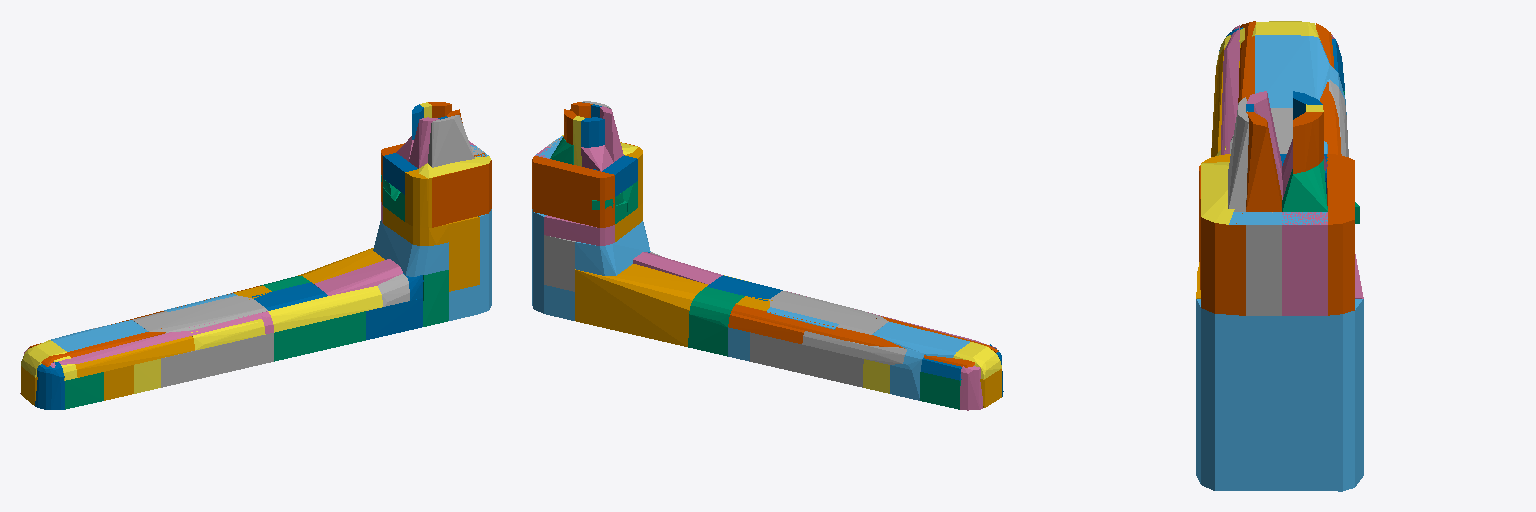
--- Facts derived from the render (not from the file) ---
Views: 3 orthographic renders of the robot side by side, from view 1: azimuth 30°, elevation 25°; view 2: azimuth 150°, elevation 25°; view 3: azimuth 270°, elevation 25°.
Model root with 64 links and 63 joints (63 fixed), rooted at link_handle~handle3_convex_piece_0, posed all joints at 0.
Visible links, largest first — view 1: link_handle~handle3_convex_piece_63, link_handle~handle3_convex_piece_21, link_handle~handle3_convex_piece_58, link_handle~handle3_convex_piece_35, link_handle~handle3_convex_piece_47, link_handle~handle3_convex_piece_49, link_handle~handle3_convex_piece_8, link_handle~handle3_convex_piece_55, link_handle~handle3_convex_piece_48, link_handle~handle3_convex_piece_44, link_handle~handle3_convex_piece_46, link_handle~handle3_convex_piece_38 (+19 smaller); view 2: link_handle~handle3_convex_piece_56, link_handle~handle3_convex_piece_45, link_handle~handle3_convex_piece_63, link_handle~handle3_convex_piece_34, link_handle~handle3_convex_piece_49, link_handle~handle3_convex_piece_47, link_handle~handle3_convex_piece_61, link_handle~handle3_convex_piece_41, link_handle~handle3_convex_piece_7, link_handle~handle3_convex_piece_22, link_handle~handle3_convex_piece_57, link_handle~handle3_convex_piece_25 (+17 smaller); view 3: link_handle~handle3_convex_piece_25, link_handle~handle3_convex_piece_6, link_handle~handle3_convex_piece_41, link_handle~handle3_convex_piece_45, link_handle~handle3_convex_piece_21, link_handle~handle3_convex_piece_15, link_handle~handle3_convex_piece_53, link_handle~handle3_convex_piece_55, link_handle~handle3_convex_piece_26, link_handle~handle3_convex_piece_29, link_handle~handle3_convex_piece_38, link_handle~handle3_convex_piece_43 (+7 smaller).
Link boxes in pixels (bbox=[...]): link_handle~handle3_convex_piece_63: bbox=[161, 333, 273, 387]; link_handle~handle3_convex_piece_21: bbox=[432, 153, 491, 227]; link_handle~handle3_convex_piece_58: bbox=[274, 311, 365, 361]; link_handle~handle3_convex_piece_35: bbox=[268, 286, 382, 332]; link_handle~handle3_convex_piece_47: bbox=[134, 295, 267, 333]; link_handle~handle3_convex_piece_49: bbox=[373, 220, 448, 276]; link_handle~handle3_convex_piece_8: bbox=[449, 216, 479, 291]; link_handle~handle3_convex_piece_55: bbox=[428, 115, 474, 167]; link_handle~handle3_convex_piece_48: bbox=[75, 336, 194, 377]; link_handle~handle3_convex_piece_44: bbox=[366, 298, 422, 339]; link_handle~handle3_convex_piece_46: bbox=[314, 259, 402, 295]; link_handle~handle3_convex_piece_38: bbox=[50, 313, 261, 367]; link_handle~handle3_convex_piece_56: bbox=[575, 264, 707, 346]; link_handle~handle3_convex_piece_45: bbox=[532, 156, 614, 227]; link_handle~handle3_convex_piece_63: bbox=[750, 332, 863, 387]; link_handle~handle3_convex_piece_34: bbox=[688, 287, 744, 356]; link_handle~handle3_convex_piece_49: bbox=[575, 221, 650, 275]; link_handle~handle3_convex_piece_47: bbox=[769, 291, 888, 332]; link_handle~handle3_convex_piece_61: bbox=[731, 304, 974, 367]; link_handle~handle3_convex_piece_41: bbox=[872, 322, 969, 357]; link_handle~handle3_convex_piece_7: bbox=[544, 235, 575, 291]; link_handle~handle3_convex_piece_22: bbox=[544, 215, 614, 245]; link_handle~handle3_convex_piece_57: bbox=[890, 348, 924, 400]; link_handle~handle3_convex_piece_25: bbox=[532, 209, 546, 313]; link_handle~handle3_convex_piece_25: bbox=[1196, 299, 1363, 491]; link_handle~handle3_convex_piece_6: bbox=[1282, 212, 1327, 315]; link_handle~handle3_convex_piece_41: bbox=[1255, 35, 1329, 107]; link_handle~handle3_convex_piece_45: bbox=[1327, 154, 1354, 315]; link_handle~handle3_convex_piece_21: bbox=[1199, 166, 1245, 315]; link_handle~handle3_convex_piece_15: bbox=[1246, 212, 1281, 315]; link_handle~handle3_convex_piece_53: bbox=[1246, 112, 1281, 211]; link_handle~handle3_convex_piece_55: bbox=[1228, 97, 1248, 211]; link_handle~handle3_convex_piece_26: bbox=[1282, 159, 1327, 211]; link_handle~handle3_convex_piece_29: bbox=[1293, 112, 1323, 173]; link_handle~handle3_convex_piece_38: bbox=[1221, 25, 1239, 154]; link_handle~handle3_convex_piece_43: bbox=[1201, 162, 1234, 224].
Bounding box of the posed robot: 0.1277 × 0.0227 × 0.052 m (x, y, z).
64 mesh visuals loaded from 64 distinct referenced files (64 OBJ).

robot.urdf — root:
<robot name="root">
  <link name="link_handle~handle3_convex_piece_0">
    <inertial>
      <origin xyz="0 0 0" rpy="0 0 0"/>
      <mass value="9.66E-04"/>
      <inertia ixx="1.10E-07" ixy="-2.01E-07" ixz="-5.53E-07" iyy="3.87E-06" iyz="-3.13E-08" izz="3.80E-06"/>
    </inertial>
    <visual>
      <origin xyz="0 0 0" rpy="0 0 0"/>
      <geometry>
        <mesh filename="handle~handle3_convex_piece_0.obj" scale="1.0000E+00 1.0000E+00 1.0000E+00"/>
      </geometry>
      <material name=""/>
    </visual>
    <collision>
      <origin xyz="0 0 0" rpy="0 0 0"/>
      <geometry>
        <mesh filename="handle~handle3_convex_piece_0.obj" scale="1.0000E+00 1.0000E+00 1.0000E+00"/>
      </geometry>
    </collision>
  </link>
  <link name="link_handle~handle3_convex_piece_1">
    <inertial>
      <origin xyz="0 0 0" rpy="0 0 0"/>
      <mass value="5.49E-04"/>
      <inertia ixx="7.18E-08" ixy="4.76E-08" ixz="-7.96E-08" iyy="1.89E-07" iyz="2.88E-08" izz="1.57E-07"/>
    </inertial>
    <visual>
      <origin xyz="0 0 0" rpy="0 0 0"/>
      <geometry>
        <mesh filename="handle~handle3_convex_piece_1.obj" scale="1.0000E+00 1.0000E+00 1.0000E+00"/>
      </geometry>
      <material name=""/>
    </visual>
    <collision>
      <origin xyz="0 0 0" rpy="0 0 0"/>
      <geometry>
        <mesh filename="handle~handle3_convex_piece_1.obj" scale="1.0000E+00 1.0000E+00 1.0000E+00"/>
      </geometry>
    </collision>
  </link>
  <joint name="link_handle~handle3_convex_piece_1_joint" type="fixed">
    <origin xyz="0 0 0" rpy="0 0 0"/>
    <parent link="link_handle~handle3_convex_piece_0"/>
    <child link="link_handle~handle3_convex_piece_1"/>
  </joint>
  <link name="link_handle~handle3_convex_piece_2">
    <inertial>
      <origin xyz="0 0 0" rpy="0 0 0"/>
      <mass value="1.30E-03"/>
      <inertia ixx="1.38E-07" ixy="1.82E-07" ixz="2.47E-07" iyy="1.01E-06" iyz="-4.94E-08" izz="9.71E-07"/>
    </inertial>
    <visual>
      <origin xyz="0 0 0" rpy="0 0 0"/>
      <geometry>
        <mesh filename="handle~handle3_convex_piece_2.obj" scale="1.0000E+00 1.0000E+00 1.0000E+00"/>
      </geometry>
      <material name=""/>
    </visual>
    <collision>
      <origin xyz="0 0 0" rpy="0 0 0"/>
      <geometry>
        <mesh filename="handle~handle3_convex_piece_2.obj" scale="1.0000E+00 1.0000E+00 1.0000E+00"/>
      </geometry>
    </collision>
  </link>
  <joint name="link_handle~handle3_convex_piece_2_joint" type="fixed">
    <origin xyz="0 0 0" rpy="0 0 0"/>
    <parent link="link_handle~handle3_convex_piece_1"/>
    <child link="link_handle~handle3_convex_piece_2"/>
  </joint>
  <link name="link_handle~handle3_convex_piece_3">
    <inertial>
      <origin xyz="0 0 0" rpy="0 0 0"/>
      <mass value="1.32E-03"/>
      <inertia ixx="1.67E-07" ixy="3.49E-09" ixz="-6.91E-07" iyy="4.07E-06" iyz="2.89E-10" izz="3.97E-06"/>
    </inertial>
    <visual>
      <origin xyz="0 0 0" rpy="0 0 0"/>
      <geometry>
        <mesh filename="handle~handle3_convex_piece_3.obj" scale="1.0000E+00 1.0000E+00 1.0000E+00"/>
      </geometry>
      <material name=""/>
    </visual>
    <collision>
      <origin xyz="0 0 0" rpy="0 0 0"/>
      <geometry>
        <mesh filename="handle~handle3_convex_piece_3.obj" scale="1.0000E+00 1.0000E+00 1.0000E+00"/>
      </geometry>
    </collision>
  </link>
  <joint name="link_handle~handle3_convex_piece_3_joint" type="fixed">
    <origin xyz="0 0 0" rpy="0 0 0"/>
    <parent link="link_handle~handle3_convex_piece_2"/>
    <child link="link_handle~handle3_convex_piece_3"/>
  </joint>
  <link name="link_handle~handle3_convex_piece_4">
    <inertial>
      <origin xyz="0 0 0" rpy="0 0 0"/>
      <mass value="1.26E-04"/>
      <inertia ixx="9.52E-09" ixy="2.07E-08" ixz="8.67E-09" iyy="5.88E-08" iyz="-3.23E-09" izz="6.50E-08"/>
    </inertial>
    <visual>
      <origin xyz="0 0 0" rpy="0 0 0"/>
      <geometry>
        <mesh filename="handle~handle3_convex_piece_4.obj" scale="1.0000E+00 1.0000E+00 1.0000E+00"/>
      </geometry>
      <material name=""/>
    </visual>
    <collision>
      <origin xyz="0 0 0" rpy="0 0 0"/>
      <geometry>
        <mesh filename="handle~handle3_convex_piece_4.obj" scale="1.0000E+00 1.0000E+00 1.0000E+00"/>
      </geometry>
    </collision>
  </link>
  <joint name="link_handle~handle3_convex_piece_4_joint" type="fixed">
    <origin xyz="0 0 0" rpy="0 0 0"/>
    <parent link="link_handle~handle3_convex_piece_3"/>
    <child link="link_handle~handle3_convex_piece_4"/>
  </joint>
  <link name="link_handle~handle3_convex_piece_5">
    <inertial>
      <origin xyz="0 0 0" rpy="0 0 0"/>
      <mass value="6.37E-05"/>
      <inertia ixx="4.13E-09" ixy="-8.38E-09" ixz="-1.26E-08" iyy="7.22E-08" iyz="-1.53E-09" izz="7.01E-08"/>
    </inertial>
    <visual>
      <origin xyz="0 0 0" rpy="0 0 0"/>
      <geometry>
        <mesh filename="handle~handle3_convex_piece_5.obj" scale="1.0000E+00 1.0000E+00 1.0000E+00"/>
      </geometry>
      <material name=""/>
    </visual>
    <collision>
      <origin xyz="0 0 0" rpy="0 0 0"/>
      <geometry>
        <mesh filename="handle~handle3_convex_piece_5.obj" scale="1.0000E+00 1.0000E+00 1.0000E+00"/>
      </geometry>
    </collision>
  </link>
  <joint name="link_handle~handle3_convex_piece_5_joint" type="fixed">
    <origin xyz="0 0 0" rpy="0 0 0"/>
    <parent link="link_handle~handle3_convex_piece_4"/>
    <child link="link_handle~handle3_convex_piece_5"/>
  </joint>
  <link name="link_handle~handle3_convex_piece_6">
    <inertial>
      <origin xyz="0 0 0" rpy="0 0 0"/>
      <mass value="4.26E-04"/>
      <inertia ixx="1.64E-07" ixy="-5.77E-08" ixz="-3.39E-07" iyy="9.14E-07" iyz="-2.60E-08" izz="7.62E-07"/>
    </inertial>
    <visual>
      <origin xyz="0 0 0" rpy="0 0 0"/>
      <geometry>
        <mesh filename="handle~handle3_convex_piece_6.obj" scale="1.0000E+00 1.0000E+00 1.0000E+00"/>
      </geometry>
      <material name=""/>
    </visual>
    <collision>
      <origin xyz="0 0 0" rpy="0 0 0"/>
      <geometry>
        <mesh filename="handle~handle3_convex_piece_6.obj" scale="1.0000E+00 1.0000E+00 1.0000E+00"/>
      </geometry>
    </collision>
  </link>
  <joint name="link_handle~handle3_convex_piece_6_joint" type="fixed">
    <origin xyz="0 0 0" rpy="0 0 0"/>
    <parent link="link_handle~handle3_convex_piece_5"/>
    <child link="link_handle~handle3_convex_piece_6"/>
  </joint>
  <link name="link_handle~handle3_convex_piece_7">
    <inertial>
      <origin xyz="0 0 0" rpy="0 0 0"/>
      <mass value="7.29E-04"/>
      <inertia ixx="6.05E-08" ixy="-2.02E-07" ixz="-1.78E-08" iyy="8.79E-07" iyz="-3.94E-09" izz="9.18E-07"/>
    </inertial>
    <visual>
      <origin xyz="0 0 0" rpy="0 0 0"/>
      <geometry>
        <mesh filename="handle~handle3_convex_piece_7.obj" scale="1.0000E+00 1.0000E+00 1.0000E+00"/>
      </geometry>
      <material name=""/>
    </visual>
    <collision>
      <origin xyz="0 0 0" rpy="0 0 0"/>
      <geometry>
        <mesh filename="handle~handle3_convex_piece_7.obj" scale="1.0000E+00 1.0000E+00 1.0000E+00"/>
      </geometry>
    </collision>
  </link>
  <joint name="link_handle~handle3_convex_piece_7_joint" type="fixed">
    <origin xyz="0 0 0" rpy="0 0 0"/>
    <parent link="link_handle~handle3_convex_piece_6"/>
    <child link="link_handle~handle3_convex_piece_7"/>
  </joint>
  <link name="link_handle~handle3_convex_piece_8">
    <inertial>
      <origin xyz="0 0 0" rpy="0 0 0"/>
      <mass value="1.00E-03"/>
      <inertia ixx="1.05E-07" ixy="2.76E-07" ixz="-1.09E-07" iyy="1.23E-06" iyz="2.51E-08" izz="1.26E-06"/>
    </inertial>
    <visual>
      <origin xyz="0 0 0" rpy="0 0 0"/>
      <geometry>
        <mesh filename="handle~handle3_convex_piece_8.obj" scale="1.0000E+00 1.0000E+00 1.0000E+00"/>
      </geometry>
      <material name=""/>
    </visual>
    <collision>
      <origin xyz="0 0 0" rpy="0 0 0"/>
      <geometry>
        <mesh filename="handle~handle3_convex_piece_8.obj" scale="1.0000E+00 1.0000E+00 1.0000E+00"/>
      </geometry>
    </collision>
  </link>
  <joint name="link_handle~handle3_convex_piece_8_joint" type="fixed">
    <origin xyz="0 0 0" rpy="0 0 0"/>
    <parent link="link_handle~handle3_convex_piece_7"/>
    <child link="link_handle~handle3_convex_piece_8"/>
  </joint>
  <link name="link_handle~handle3_convex_piece_9">
    <inertial>
      <origin xyz="0 0 0" rpy="0 0 0"/>
      <mass value="0.00E+00"/>
      <inertia ixx="2.90E-23" ixy="-0.00E+00" ixz="-5.80E-23" iyy="2.90E-23" iyz="-0.00E+00" izz="0.00E+00"/>
    </inertial>
    <visual>
      <origin xyz="0 0 0" rpy="0 0 0"/>
      <geometry>
        <mesh filename="handle~handle3_convex_piece_9.obj" scale="1.0000E+00 1.0000E+00 1.0000E+00"/>
      </geometry>
      <material name=""/>
    </visual>
    <collision>
      <origin xyz="0 0 0" rpy="0 0 0"/>
      <geometry>
        <mesh filename="handle~handle3_convex_piece_9.obj" scale="1.0000E+00 1.0000E+00 1.0000E+00"/>
      </geometry>
    </collision>
  </link>
  <joint name="link_handle~handle3_convex_piece_9_joint" type="fixed">
    <origin xyz="0 0 0" rpy="0 0 0"/>
    <parent link="link_handle~handle3_convex_piece_8"/>
    <child link="link_handle~handle3_convex_piece_9"/>
  </joint>
  <link name="link_handle~handle3_convex_piece_10">
    <inertial>
      <origin xyz="0 0 0" rpy="0 0 0"/>
      <mass value="7.95E-05"/>
      <inertia ixx="2.95E-08" ixy="-1.14E-08" ixz="-3.44E-08" iyy="7.14E-08" iyz="-8.72E-09" izz="4.84E-08"/>
    </inertial>
    <visual>
      <origin xyz="0 0 0" rpy="0 0 0"/>
      <geometry>
        <mesh filename="handle~handle3_convex_piece_10.obj" scale="1.0000E+00 1.0000E+00 1.0000E+00"/>
      </geometry>
      <material name=""/>
    </visual>
    <collision>
      <origin xyz="0 0 0" rpy="0 0 0"/>
      <geometry>
        <mesh filename="handle~handle3_convex_piece_10.obj" scale="1.0000E+00 1.0000E+00 1.0000E+00"/>
      </geometry>
    </collision>
  </link>
  <joint name="link_handle~handle3_convex_piece_10_joint" type="fixed">
    <origin xyz="0 0 0" rpy="0 0 0"/>
    <parent link="link_handle~handle3_convex_piece_9"/>
    <child link="link_handle~handle3_convex_piece_10"/>
  </joint>
  <link name="link_handle~handle3_convex_piece_11">
    <inertial>
      <origin xyz="0 0 0" rpy="0 0 0"/>
      <mass value="1.10E-04"/>
      <inertia ixx="8.50E-08" ixy="-1.58E-08" ixz="-9.57E-08" iyy="2.02E-07" iyz="-1.29E-08" izz="1.21E-07"/>
    </inertial>
    <visual>
      <origin xyz="0 0 0" rpy="0 0 0"/>
      <geometry>
        <mesh filename="handle~handle3_convex_piece_11.obj" scale="1.0000E+00 1.0000E+00 1.0000E+00"/>
      </geometry>
      <material name=""/>
    </visual>
    <collision>
      <origin xyz="0 0 0" rpy="0 0 0"/>
      <geometry>
        <mesh filename="handle~handle3_convex_piece_11.obj" scale="1.0000E+00 1.0000E+00 1.0000E+00"/>
      </geometry>
    </collision>
  </link>
  <joint name="link_handle~handle3_convex_piece_11_joint" type="fixed">
    <origin xyz="0 0 0" rpy="0 0 0"/>
    <parent link="link_handle~handle3_convex_piece_10"/>
    <child link="link_handle~handle3_convex_piece_11"/>
  </joint>
  <link name="link_handle~handle3_convex_piece_12">
    <inertial>
      <origin xyz="0 0 0" rpy="0 0 0"/>
      <mass value="5.61E-05"/>
      <inertia ixx="4.03E-09" ixy="2.89E-08" ixz="-1.80E-08" iyy="2.95E-07" iyz="1.80E-09" izz="2.97E-07"/>
    </inertial>
    <visual>
      <origin xyz="0 0 0" rpy="0 0 0"/>
      <geometry>
        <mesh filename="handle~handle3_convex_piece_12.obj" scale="1.0000E+00 1.0000E+00 1.0000E+00"/>
      </geometry>
      <material name=""/>
    </visual>
    <collision>
      <origin xyz="0 0 0" rpy="0 0 0"/>
      <geometry>
        <mesh filename="handle~handle3_convex_piece_12.obj" scale="1.0000E+00 1.0000E+00 1.0000E+00"/>
      </geometry>
    </collision>
  </link>
  <joint name="link_handle~handle3_convex_piece_12_joint" type="fixed">
    <origin xyz="0 0 0" rpy="0 0 0"/>
    <parent link="link_handle~handle3_convex_piece_11"/>
    <child link="link_handle~handle3_convex_piece_12"/>
  </joint>
  <link name="link_handle~handle3_convex_piece_13">
    <inertial>
      <origin xyz="0 0 0" rpy="0 0 0"/>
      <mass value="1.04E-04"/>
      <inertia ixx="9.44E-09" ixy="1.99E-08" ixz="-1.05E-08" iyy="6.02E-08" iyz="3.88E-09" izz="6.54E-08"/>
    </inertial>
    <visual>
      <origin xyz="0 0 0" rpy="0 0 0"/>
      <geometry>
        <mesh filename="handle~handle3_convex_piece_13.obj" scale="1.0000E+00 1.0000E+00 1.0000E+00"/>
      </geometry>
      <material name=""/>
    </visual>
    <collision>
      <origin xyz="0 0 0" rpy="0 0 0"/>
      <geometry>
        <mesh filename="handle~handle3_convex_piece_13.obj" scale="1.0000E+00 1.0000E+00 1.0000E+00"/>
      </geometry>
    </collision>
  </link>
  <joint name="link_handle~handle3_convex_piece_13_joint" type="fixed">
    <origin xyz="0 0 0" rpy="0 0 0"/>
    <parent link="link_handle~handle3_convex_piece_12"/>
    <child link="link_handle~handle3_convex_piece_13"/>
  </joint>
  <link name="link_handle~handle3_convex_piece_14">
    <inertial>
      <origin xyz="0 0 0" rpy="0 0 0"/>
      <mass value="1.01E-04"/>
      <inertia ixx="1.33E-08" ixy="5.02E-08" ixz="-7.29E-08" iyy="6.50E-07" iyz="5.75E-09" izz="6.45E-07"/>
    </inertial>
    <visual>
      <origin xyz="0 0 0" rpy="0 0 0"/>
      <geometry>
        <mesh filename="handle~handle3_convex_piece_14.obj" scale="1.0000E+00 1.0000E+00 1.0000E+00"/>
      </geometry>
      <material name=""/>
    </visual>
    <collision>
      <origin xyz="0 0 0" rpy="0 0 0"/>
      <geometry>
        <mesh filename="handle~handle3_convex_piece_14.obj" scale="1.0000E+00 1.0000E+00 1.0000E+00"/>
      </geometry>
    </collision>
  </link>
  <joint name="link_handle~handle3_convex_piece_14_joint" type="fixed">
    <origin xyz="0 0 0" rpy="0 0 0"/>
    <parent link="link_handle~handle3_convex_piece_13"/>
    <child link="link_handle~handle3_convex_piece_14"/>
  </joint>
  <link name="link_handle~handle3_convex_piece_15">
    <inertial>
      <origin xyz="0 0 0" rpy="0 0 0"/>
      <mass value="6.59E-04"/>
      <inertia ixx="2.51E-07" ixy="5.80E-08" ixz="-4.97E-07" iyy="1.30E-06" iyz="2.77E-08" izz="1.06E-06"/>
    </inertial>
    <visual>
      <origin xyz="0 0 0" rpy="0 0 0"/>
      <geometry>
        <mesh filename="handle~handle3_convex_piece_15.obj" scale="1.0000E+00 1.0000E+00 1.0000E+00"/>
      </geometry>
      <material name=""/>
    </visual>
    <collision>
      <origin xyz="0 0 0" rpy="0 0 0"/>
      <geometry>
        <mesh filename="handle~handle3_convex_piece_15.obj" scale="1.0000E+00 1.0000E+00 1.0000E+00"/>
      </geometry>
    </collision>
  </link>
  <joint name="link_handle~handle3_convex_piece_15_joint" type="fixed">
    <origin xyz="0 0 0" rpy="0 0 0"/>
    <parent link="link_handle~handle3_convex_piece_14"/>
    <child link="link_handle~handle3_convex_piece_15"/>
  </joint>
  <link name="link_handle~handle3_convex_piece_16">
    <inertial>
      <origin xyz="0 0 0" rpy="0 0 0"/>
      <mass value="3.86E-04"/>
      <inertia ixx="4.54E-08" ixy="2.09E-08" ixz="-3.16E-07" iyy="2.54E-06" iyz="2.73E-09" izz="2.50E-06"/>
    </inertial>
    <visual>
      <origin xyz="0 0 0" rpy="0 0 0"/>
      <geometry>
        <mesh filename="handle~handle3_convex_piece_16.obj" scale="1.0000E+00 1.0000E+00 1.0000E+00"/>
      </geometry>
      <material name=""/>
    </visual>
    <collision>
      <origin xyz="0 0 0" rpy="0 0 0"/>
      <geometry>
        <mesh filename="handle~handle3_convex_piece_16.obj" scale="1.0000E+00 1.0000E+00 1.0000E+00"/>
      </geometry>
    </collision>
  </link>
  <joint name="link_handle~handle3_convex_piece_16_joint" type="fixed">
    <origin xyz="0 0 0" rpy="0 0 0"/>
    <parent link="link_handle~handle3_convex_piece_15"/>
    <child link="link_handle~handle3_convex_piece_16"/>
  </joint>
  <link name="link_handle~handle3_convex_piece_17">
    <inertial>
      <origin xyz="0 0 0" rpy="0 0 0"/>
      <mass value="1.62E-03"/>
      <inertia ixx="2.50E-07" ixy="-5.82E-10" ixz="5.82E-07" iyy="2.15E-06" iyz="1.65E-10" izz="2.04E-06"/>
    </inertial>
    <visual>
      <origin xyz="0 0 0" rpy="0 0 0"/>
      <geometry>
        <mesh filename="handle~handle3_convex_piece_17.obj" scale="1.0000E+00 1.0000E+00 1.0000E+00"/>
      </geometry>
      <material name=""/>
    </visual>
    <collision>
      <origin xyz="0 0 0" rpy="0 0 0"/>
      <geometry>
        <mesh filename="handle~handle3_convex_piece_17.obj" scale="1.0000E+00 1.0000E+00 1.0000E+00"/>
      </geometry>
    </collision>
  </link>
  <joint name="link_handle~handle3_convex_piece_17_joint" type="fixed">
    <origin xyz="0 0 0" rpy="0 0 0"/>
    <parent link="link_handle~handle3_convex_piece_16"/>
    <child link="link_handle~handle3_convex_piece_17"/>
  </joint>
  <link name="link_handle~handle3_convex_piece_18">
    <inertial>
      <origin xyz="0 0 0" rpy="0 0 0"/>
      <mass value="1.58E-03"/>
      <inertia ixx="2.16E-07" ixy="1.68E-09" ixz="-1.18E-06" iyy="8.41E-06" iyz="1.61E-10" izz="8.28E-06"/>
    </inertial>
    <visual>
      <origin xyz="0 0 0" rpy="0 0 0"/>
      <geometry>
        <mesh filename="handle~handle3_convex_piece_18.obj" scale="1.0000E+00 1.0000E+00 1.0000E+00"/>
      </geometry>
      <material name=""/>
    </visual>
    <collision>
      <origin xyz="0 0 0" rpy="0 0 0"/>
      <geometry>
        <mesh filename="handle~handle3_convex_piece_18.obj" scale="1.0000E+00 1.0000E+00 1.0000E+00"/>
      </geometry>
    </collision>
  </link>
  <joint name="link_handle~handle3_convex_piece_18_joint" type="fixed">
    <origin xyz="0 0 0" rpy="0 0 0"/>
    <parent link="link_handle~handle3_convex_piece_17"/>
    <child link="link_handle~handle3_convex_piece_18"/>
  </joint>
  <link name="link_handle~handle3_convex_piece_19">
    <inertial>
      <origin xyz="0 0 0" rpy="0 0 0"/>
      <mass value="3.68E-04"/>
      <inertia ixx="1.62E-08" ixy="1.25E-11" ixz="-4.61E-08" iyy="5.04E-07" iyz="1.17E-12" izz="4.93E-07"/>
    </inertial>
    <visual>
      <origin xyz="0 0 0" rpy="0 0 0"/>
      <geometry>
        <mesh filename="handle~handle3_convex_piece_19.obj" scale="1.0000E+00 1.0000E+00 1.0000E+00"/>
      </geometry>
      <material name=""/>
    </visual>
    <collision>
      <origin xyz="0 0 0" rpy="0 0 0"/>
      <geometry>
        <mesh filename="handle~handle3_convex_piece_19.obj" scale="1.0000E+00 1.0000E+00 1.0000E+00"/>
      </geometry>
    </collision>
  </link>
  <joint name="link_handle~handle3_convex_piece_19_joint" type="fixed">
    <origin xyz="0 0 0" rpy="0 0 0"/>
    <parent link="link_handle~handle3_convex_piece_18"/>
    <child link="link_handle~handle3_convex_piece_19"/>
  </joint>
  <link name="link_handle~handle3_convex_piece_20">
    <inertial>
      <origin xyz="0 0 0" rpy="0 0 0"/>
      <mass value="1.97E-04"/>
      <inertia ixx="2.43E-08" ixy="-8.39E-08" ixz="-1.43E-07" iyy="1.27E-06" iyz="-9.60E-09" izz="1.26E-06"/>
    </inertial>
    <visual>
      <origin xyz="0 0 0" rpy="0 0 0"/>
      <geometry>
        <mesh filename="handle~handle3_convex_piece_20.obj" scale="1.0000E+00 1.0000E+00 1.0000E+00"/>
      </geometry>
      <material name=""/>
    </visual>
    <collision>
      <origin xyz="0 0 0" rpy="0 0 0"/>
      <geometry>
        <mesh filename="handle~handle3_convex_piece_20.obj" scale="1.0000E+00 1.0000E+00 1.0000E+00"/>
      </geometry>
    </collision>
  </link>
  <joint name="link_handle~handle3_convex_piece_20_joint" type="fixed">
    <origin xyz="0 0 0" rpy="0 0 0"/>
    <parent link="link_handle~handle3_convex_piece_19"/>
    <child link="link_handle~handle3_convex_piece_20"/>
  </joint>
  <link name="link_handle~handle3_convex_piece_21">
    <inertial>
      <origin xyz="0 0 0" rpy="0 0 0"/>
      <mass value="1.69E-03"/>
      <inertia ixx="7.28E-07" ixy="4.37E-07" ixz="-1.09E-06" iyy="2.65E-06" iyz="2.41E-07" izz="2.13E-06"/>
    </inertial>
    <visual>
      <origin xyz="0 0 0" rpy="0 0 0"/>
      <geometry>
        <mesh filename="handle~handle3_convex_piece_21.obj" scale="1.0000E+00 1.0000E+00 1.0000E+00"/>
      </geometry>
      <material name=""/>
    </visual>
    <collision>
      <origin xyz="0 0 0" rpy="0 0 0"/>
      <geometry>
        <mesh filename="handle~handle3_convex_piece_21.obj" scale="1.0000E+00 1.0000E+00 1.0000E+00"/>
      </geometry>
    </collision>
  </link>
  <joint name="link_handle~handle3_convex_piece_21_joint" type="fixed">
    <origin xyz="0 0 0" rpy="0 0 0"/>
    <parent link="link_handle~handle3_convex_piece_20"/>
    <child link="link_handle~handle3_convex_piece_21"/>
  </joint>
  <link name="link_handle~handle3_convex_piece_22">
    <inertial>
      <origin xyz="0 0 0" rpy="0 0 0"/>
      <mass value="4.37E-04"/>
      <inertia ixx="7.14E-08" ixy="-1.10E-07" ixz="-1.32E-07" iyy="4.75E-07" iyz="-3.41E-08" izz="4.63E-07"/>
    </inertial>
    <visual>
      <origin xyz="0 0 0" rpy="0 0 0"/>
      <geometry>
        <mesh filename="handle~handle3_convex_piece_22.obj" scale="1.0000E+00 1.0000E+00 1.0000E+00"/>
      </geometry>
      <material name=""/>
    </visual>
    <collision>
      <origin xyz="0 0 0" rpy="0 0 0"/>
      <geometry>
        <mesh filename="handle~handle3_convex_piece_22.obj" scale="1.0000E+00 1.0000E+00 1.0000E+00"/>
      </geometry>
    </collision>
  </link>
  <joint name="link_handle~handle3_convex_piece_22_joint" type="fixed">
    <origin xyz="0 0 0" rpy="0 0 0"/>
    <parent link="link_handle~handle3_convex_piece_21"/>
    <child link="link_handle~handle3_convex_piece_22"/>
  </joint>
  <link name="link_handle~handle3_convex_piece_23">
    <inertial>
      <origin xyz="0 0 0" rpy="0 0 0"/>
      <mass value="5.21E-05"/>
      <inertia ixx="4.34E-09" ixy="2.30E-08" ixz="-1.31E-08" iyy="1.66E-07" iyz="1.86E-09" izz="1.68E-07"/>
    </inertial>
    <visual>
      <origin xyz="0 0 0" rpy="0 0 0"/>
      <geometry>
        <mesh filename="handle~handle3_convex_piece_23.obj" scale="1.0000E+00 1.0000E+00 1.0000E+00"/>
      </geometry>
      <material name=""/>
    </visual>
    <collision>
      <origin xyz="0 0 0" rpy="0 0 0"/>
      <geometry>
        <mesh filename="handle~handle3_convex_piece_23.obj" scale="1.0000E+00 1.0000E+00 1.0000E+00"/>
      </geometry>
    </collision>
  </link>
  <joint name="link_handle~handle3_convex_piece_23_joint" type="fixed">
    <origin xyz="0 0 0" rpy="0 0 0"/>
    <parent link="link_handle~handle3_convex_piece_22"/>
    <child link="link_handle~handle3_convex_piece_23"/>
  </joint>
  <link name="link_handle~handle3_convex_piece_24">
    <inertial>
      <origin xyz="0 0 0" rpy="0 0 0"/>
      <mass value="2.36E-04"/>
      <inertia ixx="1.08E-07" ixy="4.22E-08" ixz="-1.10E-07" iyy="2.28E-07" iyz="3.44E-08" izz="1.47E-07"/>
    </inertial>
    <visual>
      <origin xyz="0 0 0" rpy="0 0 0"/>
      <geometry>
        <mesh filename="handle~handle3_convex_piece_24.obj" scale="1.0000E+00 1.0000E+00 1.0000E+00"/>
      </geometry>
      <material name=""/>
    </visual>
    <collision>
      <origin xyz="0 0 0" rpy="0 0 0"/>
      <geometry>
        <mesh filename="handle~handle3_convex_piece_24.obj" scale="1.0000E+00 1.0000E+00 1.0000E+00"/>
      </geometry>
    </collision>
  </link>
  <joint name="link_handle~handle3_convex_piece_24_joint" type="fixed">
    <origin xyz="0 0 0" rpy="0 0 0"/>
    <parent link="link_handle~handle3_convex_piece_23"/>
    <child link="link_handle~handle3_convex_piece_24"/>
  </joint>
  <link name="link_handle~handle3_convex_piece_25">
    <inertial>
      <origin xyz="0 0 0" rpy="0 0 0"/>
      <mass value="2.85E-03"/>
      <inertia ixx="2.75E-07" ixy="-1.28E-10" ixz="1.26E-07" iyy="5.06E-06" iyz="-8.06E-12" izz="5.00E-06"/>
    </inertial>
    <visual>
      <origin xyz="0 0 0" rpy="0 0 0"/>
      <geometry>
        <mesh filename="handle~handle3_convex_piece_25.obj" scale="1.0000E+00 1.0000E+00 1.0000E+00"/>
      </geometry>
      <material name=""/>
    </visual>
    <collision>
      <origin xyz="0 0 0" rpy="0 0 0"/>
      <geometry>
        <mesh filename="handle~handle3_convex_piece_25.obj" scale="1.0000E+00 1.0000E+00 1.0000E+00"/>
      </geometry>
    </collision>
  </link>
  <joint name="link_handle~handle3_convex_piece_25_joint" type="fixed">
    <origin xyz="0 0 0" rpy="0 0 0"/>
    <parent link="link_handle~handle3_convex_piece_24"/>
    <child link="link_handle~handle3_convex_piece_25"/>
  </joint>
  <link name="link_handle~handle3_convex_piece_26">
    <inertial>
      <origin xyz="0 0 0" rpy="0 0 0"/>
      <mass value="5.97E-04"/>
      <inertia ixx="2.83E-07" ixy="-8.32E-08" ixz="-4.70E-07" iyy="1.13E-06" iyz="-4.53E-08" izz="8.68E-07"/>
    </inertial>
    <visual>
      <origin xyz="0 0 0" rpy="0 0 0"/>
      <geometry>
        <mesh filename="handle~handle3_convex_piece_26.obj" scale="1.0000E+00 1.0000E+00 1.0000E+00"/>
      </geometry>
      <material name=""/>
    </visual>
    <collision>
      <origin xyz="0 0 0" rpy="0 0 0"/>
      <geometry>
        <mesh filename="handle~handle3_convex_piece_26.obj" scale="1.0000E+00 1.0000E+00 1.0000E+00"/>
      </geometry>
    </collision>
  </link>
  <joint name="link_handle~handle3_convex_piece_26_joint" type="fixed">
    <origin xyz="0 0 0" rpy="0 0 0"/>
    <parent link="link_handle~handle3_convex_piece_25"/>
    <child link="link_handle~handle3_convex_piece_26"/>
  </joint>
  <link name="link_handle~handle3_convex_piece_27">
    <inertial>
      <origin xyz="0 0 0" rpy="0 0 0"/>
      <mass value="9.42E-05"/>
      <inertia ixx="8.77E-09" ixy="-2.44E-08" ixz="-1.29E-08" iyy="9.31E-08" iyz="-3.61E-09" izz="9.79E-08"/>
    </inertial>
    <visual>
      <origin xyz="0 0 0" rpy="0 0 0"/>
      <geometry>
        <mesh filename="handle~handle3_convex_piece_27.obj" scale="1.0000E+00 1.0000E+00 1.0000E+00"/>
      </geometry>
      <material name=""/>
    </visual>
    <collision>
      <origin xyz="0 0 0" rpy="0 0 0"/>
      <geometry>
        <mesh filename="handle~handle3_convex_piece_27.obj" scale="1.0000E+00 1.0000E+00 1.0000E+00"/>
      </geometry>
    </collision>
  </link>
  <joint name="link_handle~handle3_convex_piece_27_joint" type="fixed">
    <origin xyz="0 0 0" rpy="0 0 0"/>
    <parent link="link_handle~handle3_convex_piece_26"/>
    <child link="link_handle~handle3_convex_piece_27"/>
  </joint>
  <link name="link_handle~handle3_convex_piece_28">
    <inertial>
      <origin xyz="0 0 0" rpy="0 0 0"/>
      <mass value="7.24E-05"/>
      <inertia ixx="8.57E-08" ixy="-7.64E-09" ixz="-7.38E-08" iyy="1.49E-07" iyz="-8.68E-09" izz="6.56E-08"/>
    </inertial>
    <visual>
      <origin xyz="0 0 0" rpy="0 0 0"/>
      <geometry>
        <mesh filename="handle~handle3_convex_piece_28.obj" scale="1.0000E+00 1.0000E+00 1.0000E+00"/>
      </geometry>
      <material name=""/>
    </visual>
    <collision>
      <origin xyz="0 0 0" rpy="0 0 0"/>
      <geometry>
        <mesh filename="handle~handle3_convex_piece_28.obj" scale="1.0000E+00 1.0000E+00 1.0000E+00"/>
      </geometry>
    </collision>
  </link>
  <joint name="link_handle~handle3_convex_piece_28_joint" type="fixed">
    <origin xyz="0 0 0" rpy="0 0 0"/>
    <parent link="link_handle~handle3_convex_piece_27"/>
    <child link="link_handle~handle3_convex_piece_28"/>
  </joint>
  <link name="link_handle~handle3_convex_piece_29">
    <inertial>
      <origin xyz="0 0 0" rpy="0 0 0"/>
      <mass value="8.22E-05"/>
      <inertia ixx="9.75E-08" ixy="-1.06E-08" ixz="-1.02E-07" iyy="2.04E-07" iyz="-1.01E-08" izz="1.09E-07"/>
    </inertial>
    <visual>
      <origin xyz="0 0 0" rpy="0 0 0"/>
      <geometry>
        <mesh filename="handle~handle3_convex_piece_29.obj" scale="1.0000E+00 1.0000E+00 1.0000E+00"/>
      </geometry>
      <material name=""/>
    </visual>
    <collision>
      <origin xyz="0 0 0" rpy="0 0 0"/>
      <geometry>
        <mesh filename="handle~handle3_convex_piece_29.obj" scale="1.0000E+00 1.0000E+00 1.0000E+00"/>
      </geometry>
    </collision>
  </link>
  <joint name="link_handle~handle3_convex_piece_29_joint" type="fixed">
    <origin xyz="0 0 0" rpy="0 0 0"/>
    <parent link="link_handle~handle3_convex_piece_28"/>
    <child link="link_handle~handle3_convex_piece_29"/>
  </joint>
  <link name="link_handle~handle3_convex_piece_30">
    <inertial>
      <origin xyz="0 0 0" rpy="0 0 0"/>
      <mass value="2.30E-05"/>
      <inertia ixx="1.69E-09" ixy="-3.50E-09" ixz="-1.66E-09" iyy="9.55E-09" iyz="-6.54E-10" izz="1.06E-08"/>
    </inertial>
    <visual>
      <origin xyz="0 0 0" rpy="0 0 0"/>
      <geometry>
        <mesh filename="handle~handle3_convex_piece_30.obj" scale="1.0000E+00 1.0000E+00 1.0000E+00"/>
      </geometry>
      <material name=""/>
    </visual>
    <collision>
      <origin xyz="0 0 0" rpy="0 0 0"/>
      <geometry>
        <mesh filename="handle~handle3_convex_piece_30.obj" scale="1.0000E+00 1.0000E+00 1.0000E+00"/>
      </geometry>
    </collision>
  </link>
  <joint name="link_handle~handle3_convex_piece_30_joint" type="fixed">
    <origin xyz="0 0 0" rpy="0 0 0"/>
    <parent link="link_handle~handle3_convex_piece_29"/>
    <child link="link_handle~handle3_convex_piece_30"/>
  </joint>
  <link name="link_handle~handle3_convex_piece_31">
    <inertial>
      <origin xyz="0 0 0" rpy="0 0 0"/>
      <mass value="6.12E-05"/>
      <inertia ixx="5.96E-09" ixy="8.94E-09" ixz="3.44E-09" iyy="1.70E-08" iyz="-2.02E-09" izz="2.12E-08"/>
    </inertial>
    <visual>
      <origin xyz="0 0 0" rpy="0 0 0"/>
      <geometry>
        <mesh filename="handle~handle3_convex_piece_31.obj" scale="1.0000E+00 1.0000E+00 1.0000E+00"/>
      </geometry>
      <material name=""/>
    </visual>
    <collision>
      <origin xyz="0 0 0" rpy="0 0 0"/>
      <geometry>
        <mesh filename="handle~handle3_convex_piece_31.obj" scale="1.0000E+00 1.0000E+00 1.0000E+00"/>
      </geometry>
    </collision>
  </link>
  <joint name="link_handle~handle3_convex_piece_31_joint" type="fixed">
    <origin xyz="0 0 0" rpy="0 0 0"/>
    <parent link="link_handle~handle3_convex_piece_30"/>
    <child link="link_handle~handle3_convex_piece_31"/>
  </joint>
  <link name="link_handle~handle3_convex_piece_32">
    <inertial>
      <origin xyz="0 0 0" rpy="0 0 0"/>
      <mass value="7.07E-04"/>
      <inertia ixx="8.77E-08" ixy="4.75E-08" ixz="-1.80E-07" iyy="5.57E-07" iyz="1.71E-08" izz="5.09E-07"/>
    </inertial>
    <visual>
      <origin xyz="0 0 0" rpy="0 0 0"/>
      <geometry>
        <mesh filename="handle~handle3_convex_piece_32.obj" scale="1.0000E+00 1.0000E+00 1.0000E+00"/>
      </geometry>
      <material name=""/>
    </visual>
    <collision>
      <origin xyz="0 0 0" rpy="0 0 0"/>
      <geometry>
        <mesh filename="handle~handle3_convex_piece_32.obj" scale="1.0000E+00 1.0000E+00 1.0000E+00"/>
      </geometry>
    </collision>
  </link>
  <joint name="link_handle~handle3_convex_piece_32_joint" type="fixed">
    <origin xyz="0 0 0" rpy="0 0 0"/>
    <parent link="link_handle~handle3_convex_piece_31"/>
    <child link="link_handle~handle3_convex_piece_32"/>
  </joint>
  <link name="link_handle~handle3_convex_piece_33">
    <inertial>
      <origin xyz="0 0 0" rpy="0 0 0"/>
      <mass value="1.36E-04"/>
      <inertia ixx="6.46E-09" ixy="2.48E-08" ixz="-1.21E-08" iyy="1.31E-07" iyz="2.56E-09" izz="1.34E-07"/>
    </inertial>
    <visual>
      <origin xyz="0 0 0" rpy="0 0 0"/>
      <geometry>
        <mesh filename="handle~handle3_convex_piece_33.obj" scale="1.0000E+00 1.0000E+00 1.0000E+00"/>
      </geometry>
      <material name=""/>
    </visual>
    <collision>
      <origin xyz="0 0 0" rpy="0 0 0"/>
      <geometry>
        <mesh filename="handle~handle3_convex_piece_33.obj" scale="1.0000E+00 1.0000E+00 1.0000E+00"/>
      </geometry>
    </collision>
  </link>
  <joint name="link_handle~handle3_convex_piece_33_joint" type="fixed">
    <origin xyz="0 0 0" rpy="0 0 0"/>
    <parent link="link_handle~handle3_convex_piece_32"/>
    <child link="link_handle~handle3_convex_piece_33"/>
  </joint>
  <link name="link_handle~handle3_convex_piece_34">
    <inertial>
      <origin xyz="0 0 0" rpy="0 0 0"/>
      <mass value="1.24E-03"/>
      <inertia ixx="1.46E-07" ixy="4.99E-08" ixz="-7.10E-08" iyy="1.72E-07" iyz="5.89E-08" izz="1.22E-07"/>
    </inertial>
    <visual>
      <origin xyz="0 0 0" rpy="0 0 0"/>
      <geometry>
        <mesh filename="handle~handle3_convex_piece_34.obj" scale="1.0000E+00 1.0000E+00 1.0000E+00"/>
      </geometry>
      <material name=""/>
    </visual>
    <collision>
      <origin xyz="0 0 0" rpy="0 0 0"/>
      <geometry>
        <mesh filename="handle~handle3_convex_piece_34.obj" scale="1.0000E+00 1.0000E+00 1.0000E+00"/>
      </geometry>
    </collision>
  </link>
  <joint name="link_handle~handle3_convex_piece_34_joint" type="fixed">
    <origin xyz="0 0 0" rpy="0 0 0"/>
    <parent link="link_handle~handle3_convex_piece_33"/>
    <child link="link_handle~handle3_convex_piece_34"/>
  </joint>
  <link name="link_handle~handle3_convex_piece_35">
    <inertial>
      <origin xyz="0 0 0" rpy="0 0 0"/>
      <mass value="1.69E-04"/>
      <inertia ixx="1.62E-08" ixy="-4.47E-09" ixz="-2.24E-09" iyy="1.75E-08" iyz="-6.09E-09" izz="2.78E-08"/>
    </inertial>
    <visual>
      <origin xyz="0 0 0" rpy="0 0 0"/>
      <geometry>
        <mesh filename="handle~handle3_convex_piece_35.obj" scale="1.0000E+00 1.0000E+00 1.0000E+00"/>
      </geometry>
      <material name=""/>
    </visual>
    <collision>
      <origin xyz="0 0 0" rpy="0 0 0"/>
      <geometry>
        <mesh filename="handle~handle3_convex_piece_35.obj" scale="1.0000E+00 1.0000E+00 1.0000E+00"/>
      </geometry>
    </collision>
  </link>
  <joint name="link_handle~handle3_convex_piece_35_joint" type="fixed">
    <origin xyz="0 0 0" rpy="0 0 0"/>
    <parent link="link_handle~handle3_convex_piece_34"/>
    <child link="link_handle~handle3_convex_piece_35"/>
  </joint>
  <link name="link_handle~handle3_convex_piece_36">
    <inertial>
      <origin xyz="0 0 0" rpy="0 0 0"/>
      <mass value="4.37E-04"/>
      <inertia ixx="1.49E-08" ixy="-1.83E-08" ixz="-1.32E-08" iyy="6.02E-08" iyz="-6.14E-09" izz="6.64E-08"/>
    </inertial>
    <visual>
      <origin xyz="0 0 0" rpy="0 0 0"/>
      <geometry>
        <mesh filename="handle~handle3_convex_piece_36.obj" scale="1.0000E+00 1.0000E+00 1.0000E+00"/>
      </geometry>
      <material name=""/>
    </visual>
    <collision>
      <origin xyz="0 0 0" rpy="0 0 0"/>
      <geometry>
        <mesh filename="handle~handle3_convex_piece_36.obj" scale="1.0000E+00 1.0000E+00 1.0000E+00"/>
      </geometry>
    </collision>
  </link>
  <joint name="link_handle~handle3_convex_piece_36_joint" type="fixed">
    <origin xyz="0 0 0" rpy="0 0 0"/>
    <parent link="link_handle~handle3_convex_piece_35"/>
    <child link="link_handle~handle3_convex_piece_36"/>
  </joint>
  <link name="link_handle~handle3_convex_piece_37">
    <inertial>
      <origin xyz="0 0 0" rpy="0 0 0"/>
      <mass value="8.27E-05"/>
      <inertia ixx="1.98E-09" ixy="-2.26E-08" ixz="-1.14E-08" iyy="3.39E-07" iyz="-7.80E-10" izz="3.41E-07"/>
    </inertial>
    <visual>
      <origin xyz="0 0 0" rpy="0 0 0"/>
      <geometry>
        <mesh filename="handle~handle3_convex_piece_37.obj" scale="1.0000E+00 1.0000E+00 1.0000E+00"/>
      </geometry>
      <material name=""/>
    </visual>
    <collision>
      <origin xyz="0 0 0" rpy="0 0 0"/>
      <geometry>
        <mesh filename="handle~handle3_convex_piece_37.obj" scale="1.0000E+00 1.0000E+00 1.0000E+00"/>
      </geometry>
    </collision>
  </link>
  <joint name="link_handle~handle3_convex_piece_37_joint" type="fixed">
    <origin xyz="0 0 0" rpy="0 0 0"/>
    <parent link="link_handle~handle3_convex_piece_36"/>
    <child link="link_handle~handle3_convex_piece_37"/>
  </joint>
  <link name="link_handle~handle3_convex_piece_38">
    <inertial>
      <origin xyz="0 0 0" rpy="0 0 0"/>
      <mass value="7.99E-05"/>
      <inertia ixx="4.12E-09" ixy="-2.59E-08" ixz="-1.02E-08" iyy="2.11E-07" iyz="-1.37E-09" izz="2.14E-07"/>
    </inertial>
    <visual>
      <origin xyz="0 0 0" rpy="0 0 0"/>
      <geometry>
        <mesh filename="handle~handle3_convex_piece_38.obj" scale="1.0000E+00 1.0000E+00 1.0000E+00"/>
      </geometry>
      <material name=""/>
    </visual>
    <collision>
      <origin xyz="0 0 0" rpy="0 0 0"/>
      <geometry>
        <mesh filename="handle~handle3_convex_piece_38.obj" scale="1.0000E+00 1.0000E+00 1.0000E+00"/>
      </geometry>
    </collision>
  </link>
  <joint name="link_handle~handle3_convex_piece_38_joint" type="fixed">
    <origin xyz="0 0 0" rpy="0 0 0"/>
    <parent link="link_handle~handle3_convex_piece_37"/>
    <child link="link_handle~handle3_convex_piece_38"/>
  </joint>
  <link name="link_handle~handle3_convex_piece_39">
    <inertial>
      <origin xyz="0 0 0" rpy="0 0 0"/>
      <mass value="1.60E-04"/>
      <inertia ixx="1.03E-08" ixy="4.69E-08" ixz="-2.40E-08" iyy="2.89E-07" iyz="4.18E-09" izz="2.95E-07"/>
    </inertial>
    <visual>
      <origin xyz="0 0 0" rpy="0 0 0"/>
      <geometry>
        <mesh filename="handle~handle3_convex_piece_39.obj" scale="1.0000E+00 1.0000E+00 1.0000E+00"/>
      </geometry>
      <material name=""/>
    </visual>
    <collision>
      <origin xyz="0 0 0" rpy="0 0 0"/>
      <geometry>
        <mesh filename="handle~handle3_convex_piece_39.obj" scale="1.0000E+00 1.0000E+00 1.0000E+00"/>
      </geometry>
    </collision>
  </link>
  <joint name="link_handle~handle3_convex_piece_39_joint" type="fixed">
    <origin xyz="0 0 0" rpy="0 0 0"/>
    <parent link="link_handle~handle3_convex_piece_38"/>
    <child link="link_handle~handle3_convex_piece_39"/>
  </joint>
  <link name="link_handle~handle3_convex_piece_40">
    <inertial>
      <origin xyz="0 0 0" rpy="0 0 0"/>
      <mass value="1.46E-04"/>
      <inertia ixx="5.48E-09" ixy="1.20E-08" ixz="-7.54E-09" iyy="4.51E-08" iyz="2.35E-09" izz="4.75E-08"/>
    </inertial>
    <visual>
      <origin xyz="0 0 0" rpy="0 0 0"/>
      <geometry>
        <mesh filename="handle~handle3_convex_piece_40.obj" scale="1.0000E+00 1.0000E+00 1.0000E+00"/>
      </geometry>
      <material name=""/>
    </visual>
    <collision>
      <origin xyz="0 0 0" rpy="0 0 0"/>
      <geometry>
        <mesh filename="handle~handle3_convex_piece_40.obj" scale="1.0000E+00 1.0000E+00 1.0000E+00"/>
      </geometry>
    </collision>
  </link>
  <joint name="link_handle~handle3_convex_piece_40_joint" type="fixed">
    <origin xyz="0 0 0" rpy="0 0 0"/>
    <parent link="link_handle~handle3_convex_piece_39"/>
    <child link="link_handle~handle3_convex_piece_40"/>
  </joint>
  <link name="link_handle~handle3_convex_piece_41">
    <inertial>
      <origin xyz="0 0 0" rpy="0 0 0"/>
      <mass value="6.87E-04"/>
      <inertia ixx="1.81E-08" ixy="1.18E-07" ixz="-1.31E-07" iyy="2.73E-06" iyz="7.14E-09" izz="2.73E-06"/>
    </inertial>
    <visual>
      <origin xyz="0 0 0" rpy="0 0 0"/>
      <geometry>
        <mesh filename="handle~handle3_convex_piece_41.obj" scale="1.0000E+00 1.0000E+00 1.0000E+00"/>
      </geometry>
      <material name=""/>
    </visual>
    <collision>
      <origin xyz="0 0 0" rpy="0 0 0"/>
      <geometry>
        <mesh filename="handle~handle3_convex_piece_41.obj" scale="1.0000E+00 1.0000E+00 1.0000E+00"/>
      </geometry>
    </collision>
  </link>
  <joint name="link_handle~handle3_convex_piece_41_joint" type="fixed">
    <origin xyz="0 0 0" rpy="0 0 0"/>
    <parent link="link_handle~handle3_convex_piece_40"/>
    <child link="link_handle~handle3_convex_piece_41"/>
  </joint>
  <link name="link_handle~handle3_convex_piece_42">
    <inertial>
      <origin xyz="0 0 0" rpy="0 0 0"/>
      <mass value="3.02E-04"/>
      <inertia ixx="7.59E-08" ixy="1.97E-08" ixz="-1.23E-07" iyy="2.85E-07" iyz="1.18E-08" izz="2.14E-07"/>
    </inertial>
    <visual>
      <origin xyz="0 0 0" rpy="0 0 0"/>
      <geometry>
        <mesh filename="handle~handle3_convex_piece_42.obj" scale="1.0000E+00 1.0000E+00 1.0000E+00"/>
      </geometry>
      <material name=""/>
    </visual>
    <collision>
      <origin xyz="0 0 0" rpy="0 0 0"/>
      <geometry>
        <mesh filename="handle~handle3_convex_piece_42.obj" scale="1.0000E+00 1.0000E+00 1.0000E+00"/>
      </geometry>
    </collision>
  </link>
  <joint name="link_handle~handle3_convex_piece_42_joint" type="fixed">
    <origin xyz="0 0 0" rpy="0 0 0"/>
    <parent link="link_handle~handle3_convex_piece_41"/>
    <child link="link_handle~handle3_convex_piece_42"/>
  </joint>
  <link name="link_handle~handle3_convex_piece_43">
    <inertial>
      <origin xyz="0 0 0" rpy="0 0 0"/>
      <mass value="4.19E-05"/>
      <inertia ixx="3.05E-08" ixy="9.54E-09" ixz="-3.51E-08" iyy="7.27E-08" iyz="7.64E-09" izz="4.65E-08"/>
    </inertial>
    <visual>
      <origin xyz="0 0 0" rpy="0 0 0"/>
      <geometry>
        <mesh filename="handle~handle3_convex_piece_43.obj" scale="1.0000E+00 1.0000E+00 1.0000E+00"/>
      </geometry>
      <material name=""/>
    </visual>
    <collision>
      <origin xyz="0 0 0" rpy="0 0 0"/>
      <geometry>
        <mesh filename="handle~handle3_convex_piece_43.obj" scale="1.0000E+00 1.0000E+00 1.0000E+00"/>
      </geometry>
    </collision>
  </link>
  <joint name="link_handle~handle3_convex_piece_43_joint" type="fixed">
    <origin xyz="0 0 0" rpy="0 0 0"/>
    <parent link="link_handle~handle3_convex_piece_42"/>
    <child link="link_handle~handle3_convex_piece_43"/>
  </joint>
  <link name="link_handle~handle3_convex_piece_44">
    <inertial>
      <origin xyz="0 0 0" rpy="0 0 0"/>
      <mass value="1.75E-03"/>
      <inertia ixx="2.36E-07" ixy="1.32E-07" ixz="2.51E-07" iyy="5.95E-07" iyz="-8.61E-08" izz="4.83E-07"/>
    </inertial>
    <visual>
      <origin xyz="0 0 0" rpy="0 0 0"/>
      <geometry>
        <mesh filename="handle~handle3_convex_piece_44.obj" scale="1.0000E+00 1.0000E+00 1.0000E+00"/>
      </geometry>
      <material name=""/>
    </visual>
    <collision>
      <origin xyz="0 0 0" rpy="0 0 0"/>
      <geometry>
        <mesh filename="handle~handle3_convex_piece_44.obj" scale="1.0000E+00 1.0000E+00 1.0000E+00"/>
      </geometry>
    </collision>
  </link>
  <joint name="link_handle~handle3_convex_piece_44_joint" type="fixed">
    <origin xyz="0 0 0" rpy="0 0 0"/>
    <parent link="link_handle~handle3_convex_piece_43"/>
    <child link="link_handle~handle3_convex_piece_44"/>
  </joint>
  <link name="link_handle~handle3_convex_piece_45">
    <inertial>
      <origin xyz="0 0 0" rpy="0 0 0"/>
      <mass value="1.14E-03"/>
      <inertia ixx="5.04E-07" ixy="-3.11E-07" ixz="-7.15E-07" iyy="1.72E-06" iyz="-1.77E-07" izz="1.37E-06"/>
    </inertial>
    <visual>
      <origin xyz="0 0 0" rpy="0 0 0"/>
      <geometry>
        <mesh filename="handle~handle3_convex_piece_45.obj" scale="1.0000E+00 1.0000E+00 1.0000E+00"/>
      </geometry>
      <material name=""/>
    </visual>
    <collision>
      <origin xyz="0 0 0" rpy="0 0 0"/>
      <geometry>
        <mesh filename="handle~handle3_convex_piece_45.obj" scale="1.0000E+00 1.0000E+00 1.0000E+00"/>
      </geometry>
    </collision>
  </link>
  <joint name="link_handle~handle3_convex_piece_45_joint" type="fixed">
    <origin xyz="0 0 0" rpy="0 0 0"/>
    <parent link="link_handle~handle3_convex_piece_44"/>
    <child link="link_handle~handle3_convex_piece_45"/>
  </joint>
  <link name="link_handle~handle3_convex_piece_46">
    <inertial>
      <origin xyz="0 0 0" rpy="0 0 0"/>
      <mass value="1.04E-03"/>
      <inertia ixx="3.66E-08" ixy="4.78E-08" ixz="3.91E-08" iyy="2.03E-07" iyz="-1.46E-08" izz="2.14E-07"/>
    </inertial>
    <visual>
      <origin xyz="0 0 0" rpy="0 0 0"/>
      <geometry>
        <mesh filename="handle~handle3_convex_piece_46.obj" scale="1.0000E+00 1.0000E+00 1.0000E+00"/>
      </geometry>
      <material name=""/>
    </visual>
    <collision>
      <origin xyz="0 0 0" rpy="0 0 0"/>
      <geometry>
        <mesh filename="handle~handle3_convex_piece_46.obj" scale="1.0000E+00 1.0000E+00 1.0000E+00"/>
      </geometry>
    </collision>
  </link>
  <joint name="link_handle~handle3_convex_piece_46_joint" type="fixed">
    <origin xyz="0 0 0" rpy="0 0 0"/>
    <parent link="link_handle~handle3_convex_piece_45"/>
    <child link="link_handle~handle3_convex_piece_46"/>
  </joint>
  <link name="link_handle~handle3_convex_piece_47">
    <inertial>
      <origin xyz="0 0 0" rpy="0 0 0"/>
      <mass value="1.02E-03"/>
      <inertia ixx="2.81E-08" ixy="-9.16E-08" ixz="-1.05E-07" iyy="1.31E-06" iyz="-1.03E-08" izz="1.31E-06"/>
    </inertial>
    <visual>
      <origin xyz="0 0 0" rpy="0 0 0"/>
      <geometry>
        <mesh filename="handle~handle3_convex_piece_47.obj" scale="1.0000E+00 1.0000E+00 1.0000E+00"/>
      </geometry>
      <material name=""/>
    </visual>
    <collision>
      <origin xyz="0 0 0" rpy="0 0 0"/>
      <geometry>
        <mesh filename="handle~handle3_convex_piece_47.obj" scale="1.0000E+00 1.0000E+00 1.0000E+00"/>
      </geometry>
    </collision>
  </link>
  <joint name="link_handle~handle3_convex_piece_47_joint" type="fixed">
    <origin xyz="0 0 0" rpy="0 0 0"/>
    <parent link="link_handle~handle3_convex_piece_46"/>
    <child link="link_handle~handle3_convex_piece_47"/>
  </joint>
  <link name="link_handle~handle3_convex_piece_48">
    <inertial>
      <origin xyz="0 0 0" rpy="0 0 0"/>
      <mass value="2.59E-04"/>
      <inertia ixx="1.71E-08" ixy="-1.02E-07" ixz="-5.98E-08" iyy="8.84E-07" iyz="-7.39E-09" izz="8.92E-07"/>
    </inertial>
    <visual>
      <origin xyz="0 0 0" rpy="0 0 0"/>
      <geometry>
        <mesh filename="handle~handle3_convex_piece_48.obj" scale="1.0000E+00 1.0000E+00 1.0000E+00"/>
      </geometry>
      <material name=""/>
    </visual>
    <collision>
      <origin xyz="0 0 0" rpy="0 0 0"/>
      <geometry>
        <mesh filename="handle~handle3_convex_piece_48.obj" scale="1.0000E+00 1.0000E+00 1.0000E+00"/>
      </geometry>
    </collision>
  </link>
  <joint name="link_handle~handle3_convex_piece_48_joint" type="fixed">
    <origin xyz="0 0 0" rpy="0 0 0"/>
    <parent link="link_handle~handle3_convex_piece_47"/>
    <child link="link_handle~handle3_convex_piece_48"/>
  </joint>
  <link name="link_handle~handle3_convex_piece_49">
    <inertial>
      <origin xyz="0 0 0" rpy="0 0 0"/>
      <mass value="1.62E-03"/>
      <inertia ixx="8.37E-08" ixy="2.51E-09" ixz="-1.36E-07" iyy="1.11E-06" iyz="2.80E-10" izz="1.14E-06"/>
    </inertial>
    <visual>
      <origin xyz="0 0 0" rpy="0 0 0"/>
      <geometry>
        <mesh filename="handle~handle3_convex_piece_49.obj" scale="1.0000E+00 1.0000E+00 1.0000E+00"/>
      </geometry>
      <material name=""/>
    </visual>
    <collision>
      <origin xyz="0 0 0" rpy="0 0 0"/>
      <geometry>
        <mesh filename="handle~handle3_convex_piece_49.obj" scale="1.0000E+00 1.0000E+00 1.0000E+00"/>
      </geometry>
    </collision>
  </link>
  <joint name="link_handle~handle3_convex_piece_49_joint" type="fixed">
    <origin xyz="0 0 0" rpy="0 0 0"/>
    <parent link="link_handle~handle3_convex_piece_48"/>
    <child link="link_handle~handle3_convex_piece_49"/>
  </joint>
  <link name="link_handle~handle3_convex_piece_50">
    <inertial>
      <origin xyz="0 0 0" rpy="0 0 0"/>
      <mass value="2.92E-04"/>
      <inertia ixx="7.21E-08" ixy="-2.46E-08" ixz="-1.17E-07" iyy="2.72E-07" iyz="-1.44E-08" izz="2.07E-07"/>
    </inertial>
    <visual>
      <origin xyz="0 0 0" rpy="0 0 0"/>
      <geometry>
        <mesh filename="handle~handle3_convex_piece_50.obj" scale="1.0000E+00 1.0000E+00 1.0000E+00"/>
      </geometry>
      <material name=""/>
    </visual>
    <collision>
      <origin xyz="0 0 0" rpy="0 0 0"/>
      <geometry>
        <mesh filename="handle~handle3_convex_piece_50.obj" scale="1.0000E+00 1.0000E+00 1.0000E+00"/>
      </geometry>
    </collision>
  </link>
  <joint name="link_handle~handle3_convex_piece_50_joint" type="fixed">
    <origin xyz="0 0 0" rpy="0 0 0"/>
    <parent link="link_handle~handle3_convex_piece_49"/>
    <child link="link_handle~handle3_convex_piece_50"/>
  </joint>
  <link name="link_handle~handle3_convex_piece_51">
    <inertial>
      <origin xyz="0 0 0" rpy="0 0 0"/>
      <mass value="4.64E-04"/>
      <inertia ixx="1.52E-08" ixy="-1.63E-08" ixz="-1.53E-07" iyy="2.82E-06" iyz="-1.07E-09" izz="2.82E-06"/>
    </inertial>
    <visual>
      <origin xyz="0 0 0" rpy="0 0 0"/>
      <geometry>
        <mesh filename="handle~handle3_convex_piece_51.obj" scale="1.0000E+00 1.0000E+00 1.0000E+00"/>
      </geometry>
      <material name=""/>
    </visual>
    <collision>
      <origin xyz="0 0 0" rpy="0 0 0"/>
      <geometry>
        <mesh filename="handle~handle3_convex_piece_51.obj" scale="1.0000E+00 1.0000E+00 1.0000E+00"/>
      </geometry>
    </collision>
  </link>
  <joint name="link_handle~handle3_convex_piece_51_joint" type="fixed">
    <origin xyz="0 0 0" rpy="0 0 0"/>
    <parent link="link_handle~handle3_convex_piece_50"/>
    <child link="link_handle~handle3_convex_piece_51"/>
  </joint>
  <link name="link_handle~handle3_convex_piece_52">
    <inertial>
      <origin xyz="0 0 0" rpy="0 0 0"/>
      <mass value="1.82E-04"/>
      <inertia ixx="7.00E-08" ixy="2.41E-08" ixz="-9.36E-08" iyy="2.65E-07" iyz="1.15E-08" izz="2.00E-07"/>
    </inertial>
    <visual>
      <origin xyz="0 0 0" rpy="0 0 0"/>
      <geometry>
        <mesh filename="handle~handle3_convex_piece_52.obj" scale="1.0000E+00 1.0000E+00 1.0000E+00"/>
      </geometry>
      <material name=""/>
    </visual>
    <collision>
      <origin xyz="0 0 0" rpy="0 0 0"/>
      <geometry>
        <mesh filename="handle~handle3_convex_piece_52.obj" scale="1.0000E+00 1.0000E+00 1.0000E+00"/>
      </geometry>
    </collision>
  </link>
  <joint name="link_handle~handle3_convex_piece_52_joint" type="fixed">
    <origin xyz="0 0 0" rpy="0 0 0"/>
    <parent link="link_handle~handle3_convex_piece_51"/>
    <child link="link_handle~handle3_convex_piece_52"/>
  </joint>
  <link name="link_handle~handle3_convex_piece_53">
    <inertial>
      <origin xyz="0 0 0" rpy="0 0 0"/>
      <mass value="2.14E-04"/>
      <inertia ixx="2.05E-07" ixy="2.10E-08" ixz="-2.44E-07" iyy="5.00E-07" iyz="1.75E-08" izz="2.98E-07"/>
    </inertial>
    <visual>
      <origin xyz="0 0 0" rpy="0 0 0"/>
      <geometry>
        <mesh filename="handle~handle3_convex_piece_53.obj" scale="1.0000E+00 1.0000E+00 1.0000E+00"/>
      </geometry>
      <material name=""/>
    </visual>
    <collision>
      <origin xyz="0 0 0" rpy="0 0 0"/>
      <geometry>
        <mesh filename="handle~handle3_convex_piece_53.obj" scale="1.0000E+00 1.0000E+00 1.0000E+00"/>
      </geometry>
    </collision>
  </link>
  <joint name="link_handle~handle3_convex_piece_53_joint" type="fixed">
    <origin xyz="0 0 0" rpy="0 0 0"/>
    <parent link="link_handle~handle3_convex_piece_52"/>
    <child link="link_handle~handle3_convex_piece_53"/>
  </joint>
  <link name="link_handle~handle3_convex_piece_54">
    <inertial>
      <origin xyz="0 0 0" rpy="0 0 0"/>
      <mass value="3.63E-04"/>
      <inertia ixx="2.85E-07" ixy="2.64E-08" ixz="-2.86E-07" iyy="5.80E-07" iyz="2.55E-08" izz="3.00E-07"/>
    </inertial>
    <visual>
      <origin xyz="0 0 0" rpy="0 0 0"/>
      <geometry>
        <mesh filename="handle~handle3_convex_piece_54.obj" scale="1.0000E+00 1.0000E+00 1.0000E+00"/>
      </geometry>
      <material name=""/>
    </visual>
    <collision>
      <origin xyz="0 0 0" rpy="0 0 0"/>
      <geometry>
        <mesh filename="handle~handle3_convex_piece_54.obj" scale="1.0000E+00 1.0000E+00 1.0000E+00"/>
      </geometry>
    </collision>
  </link>
  <joint name="link_handle~handle3_convex_piece_54_joint" type="fixed">
    <origin xyz="0 0 0" rpy="0 0 0"/>
    <parent link="link_handle~handle3_convex_piece_53"/>
    <child link="link_handle~handle3_convex_piece_54"/>
  </joint>
  <link name="link_handle~handle3_convex_piece_55">
    <inertial>
      <origin xyz="0 0 0" rpy="0 0 0"/>
      <mass value="2.66E-04"/>
      <inertia ixx="2.58E-07" ixy="4.80E-08" ixz="-2.73E-07" iyy="5.54E-07" iyz="4.32E-08" izz="3.12E-07"/>
    </inertial>
    <visual>
      <origin xyz="0 0 0" rpy="0 0 0"/>
      <geometry>
        <mesh filename="handle~handle3_convex_piece_55.obj" scale="1.0000E+00 1.0000E+00 1.0000E+00"/>
      </geometry>
      <material name=""/>
    </visual>
    <collision>
      <origin xyz="0 0 0" rpy="0 0 0"/>
      <geometry>
        <mesh filename="handle~handle3_convex_piece_55.obj" scale="1.0000E+00 1.0000E+00 1.0000E+00"/>
      </geometry>
    </collision>
  </link>
  <joint name="link_handle~handle3_convex_piece_55_joint" type="fixed">
    <origin xyz="0 0 0" rpy="0 0 0"/>
    <parent link="link_handle~handle3_convex_piece_54"/>
    <child link="link_handle~handle3_convex_piece_55"/>
  </joint>
  <link name="link_handle~handle3_convex_piece_56">
    <inertial>
      <origin xyz="0 0 0" rpy="0 0 0"/>
      <mass value="4.65E-03"/>
      <inertia ixx="5.23E-07" ixy="-3.92E-07" ixz="5.22E-07" iyy="1.78E-06" iyz="1.96E-07" izz="1.62E-06"/>
    </inertial>
    <visual>
      <origin xyz="0 0 0" rpy="0 0 0"/>
      <geometry>
        <mesh filename="handle~handle3_convex_piece_56.obj" scale="1.0000E+00 1.0000E+00 1.0000E+00"/>
      </geometry>
      <material name=""/>
    </visual>
    <collision>
      <origin xyz="0 0 0" rpy="0 0 0"/>
      <geometry>
        <mesh filename="handle~handle3_convex_piece_56.obj" scale="1.0000E+00 1.0000E+00 1.0000E+00"/>
      </geometry>
    </collision>
  </link>
  <joint name="link_handle~handle3_convex_piece_56_joint" type="fixed">
    <origin xyz="0 0 0" rpy="0 0 0"/>
    <parent link="link_handle~handle3_convex_piece_55"/>
    <child link="link_handle~handle3_convex_piece_56"/>
  </joint>
  <link name="link_handle~handle3_convex_piece_57">
    <inertial>
      <origin xyz="0 0 0" rpy="0 0 0"/>
      <mass value="7.59E-04"/>
      <inertia ixx="8.76E-08" ixy="2.42E-07" ixz="-4.07E-07" iyy="3.03E-06" iyz="3.38E-08" izz="2.99E-06"/>
    </inertial>
    <visual>
      <origin xyz="0 0 0" rpy="0 0 0"/>
      <geometry>
        <mesh filename="handle~handle3_convex_piece_57.obj" scale="1.0000E+00 1.0000E+00 1.0000E+00"/>
      </geometry>
      <material name=""/>
    </visual>
    <collision>
      <origin xyz="0 0 0" rpy="0 0 0"/>
      <geometry>
        <mesh filename="handle~handle3_convex_piece_57.obj" scale="1.0000E+00 1.0000E+00 1.0000E+00"/>
      </geometry>
    </collision>
  </link>
  <joint name="link_handle~handle3_convex_piece_57_joint" type="fixed">
    <origin xyz="0 0 0" rpy="0 0 0"/>
    <parent link="link_handle~handle3_convex_piece_56"/>
    <child link="link_handle~handle3_convex_piece_57"/>
  </joint>
  <link name="link_handle~handle3_convex_piece_58">
    <inertial>
      <origin xyz="0 0 0" rpy="0 0 0"/>
      <mass value="3.18E-03"/>
      <inertia ixx="3.87E-07" ixy="-7.10E-08" ixz="-1.73E-07" iyy="5.83E-07" iyz="-1.25E-07" izz="3.73E-07"/>
    </inertial>
    <visual>
      <origin xyz="0 0 0" rpy="0 0 0"/>
      <geometry>
        <mesh filename="handle~handle3_convex_piece_58.obj" scale="1.0000E+00 1.0000E+00 1.0000E+00"/>
      </geometry>
      <material name=""/>
    </visual>
    <collision>
      <origin xyz="0 0 0" rpy="0 0 0"/>
      <geometry>
        <mesh filename="handle~handle3_convex_piece_58.obj" scale="1.0000E+00 1.0000E+00 1.0000E+00"/>
      </geometry>
    </collision>
  </link>
  <joint name="link_handle~handle3_convex_piece_58_joint" type="fixed">
    <origin xyz="0 0 0" rpy="0 0 0"/>
    <parent link="link_handle~handle3_convex_piece_57"/>
    <child link="link_handle~handle3_convex_piece_58"/>
  </joint>
  <link name="link_handle~handle3_convex_piece_59">
    <inertial>
      <origin xyz="0 0 0" rpy="0 0 0"/>
      <mass value="1.89E-04"/>
      <inertia ixx="3.51E-09" ixy="-3.07E-09" ixz="1.99E-08" iyy="2.07E-07" iyz="1.18E-10" izz="2.06E-07"/>
    </inertial>
    <visual>
      <origin xyz="0 0 0" rpy="0 0 0"/>
      <geometry>
        <mesh filename="handle~handle3_convex_piece_59.obj" scale="1.0000E+00 1.0000E+00 1.0000E+00"/>
      </geometry>
      <material name=""/>
    </visual>
    <collision>
      <origin xyz="0 0 0" rpy="0 0 0"/>
      <geometry>
        <mesh filename="handle~handle3_convex_piece_59.obj" scale="1.0000E+00 1.0000E+00 1.0000E+00"/>
      </geometry>
    </collision>
  </link>
  <joint name="link_handle~handle3_convex_piece_59_joint" type="fixed">
    <origin xyz="0 0 0" rpy="0 0 0"/>
    <parent link="link_handle~handle3_convex_piece_58"/>
    <child link="link_handle~handle3_convex_piece_59"/>
  </joint>
  <link name="link_handle~handle3_convex_piece_60">
    <inertial>
      <origin xyz="0 0 0" rpy="0 0 0"/>
      <mass value="4.02E-04"/>
      <inertia ixx="2.12E-07" ixy="-1.26E-08" ixz="-2.24E-07" iyy="4.51E-07" iyz="-1.13E-08" izz="2.48E-07"/>
    </inertial>
    <visual>
      <origin xyz="0 0 0" rpy="0 0 0"/>
      <geometry>
        <mesh filename="handle~handle3_convex_piece_60.obj" scale="1.0000E+00 1.0000E+00 1.0000E+00"/>
      </geometry>
      <material name=""/>
    </visual>
    <collision>
      <origin xyz="0 0 0" rpy="0 0 0"/>
      <geometry>
        <mesh filename="handle~handle3_convex_piece_60.obj" scale="1.0000E+00 1.0000E+00 1.0000E+00"/>
      </geometry>
    </collision>
  </link>
  <joint name="link_handle~handle3_convex_piece_60_joint" type="fixed">
    <origin xyz="0 0 0" rpy="0 0 0"/>
    <parent link="link_handle~handle3_convex_piece_59"/>
    <child link="link_handle~handle3_convex_piece_60"/>
  </joint>
  <link name="link_handle~handle3_convex_piece_61">
    <inertial>
      <origin xyz="0 0 0" rpy="0 0 0"/>
      <mass value="1.07E-04"/>
      <inertia ixx="5.36E-09" ixy="2.99E-08" ixz="-1.16E-08" iyy="2.36E-07" iyz="1.75E-09" izz="2.40E-07"/>
    </inertial>
    <visual>
      <origin xyz="0 0 0" rpy="0 0 0"/>
      <geometry>
        <mesh filename="handle~handle3_convex_piece_61.obj" scale="1.0000E+00 1.0000E+00 1.0000E+00"/>
      </geometry>
      <material name=""/>
    </visual>
    <collision>
      <origin xyz="0 0 0" rpy="0 0 0"/>
      <geometry>
        <mesh filename="handle~handle3_convex_piece_61.obj" scale="1.0000E+00 1.0000E+00 1.0000E+00"/>
      </geometry>
    </collision>
  </link>
  <joint name="link_handle~handle3_convex_piece_61_joint" type="fixed">
    <origin xyz="0 0 0" rpy="0 0 0"/>
    <parent link="link_handle~handle3_convex_piece_60"/>
    <child link="link_handle~handle3_convex_piece_61"/>
  </joint>
  <link name="link_handle~handle3_convex_piece_62">
    <inertial>
      <origin xyz="0 0 0" rpy="0 0 0"/>
      <mass value="2.34E-04"/>
      <inertia ixx="1.57E-07" ixy="-2.27E-08" ixz="-1.72E-07" iyy="3.49E-07" iyz="-2.00E-08" izz="1.99E-07"/>
    </inertial>
    <visual>
      <origin xyz="0 0 0" rpy="0 0 0"/>
      <geometry>
        <mesh filename="handle~handle3_convex_piece_62.obj" scale="1.0000E+00 1.0000E+00 1.0000E+00"/>
      </geometry>
      <material name=""/>
    </visual>
    <collision>
      <origin xyz="0 0 0" rpy="0 0 0"/>
      <geometry>
        <mesh filename="handle~handle3_convex_piece_62.obj" scale="1.0000E+00 1.0000E+00 1.0000E+00"/>
      </geometry>
    </collision>
  </link>
  <joint name="link_handle~handle3_convex_piece_62_joint" type="fixed">
    <origin xyz="0 0 0" rpy="0 0 0"/>
    <parent link="link_handle~handle3_convex_piece_61"/>
    <child link="link_handle~handle3_convex_piece_62"/>
  </joint>
  <link name="link_handle~handle3_convex_piece_63">
    <inertial>
      <origin xyz="0 0 0" rpy="0 0 0"/>
      <mass value="5.14E-03"/>
      <inertia ixx="7.34E-07" ixy="-1.10E-09" ixz="-1.84E-06" iyy="7.16E-06" iyz="-1.91E-10" izz="6.74E-06"/>
    </inertial>
    <visual>
      <origin xyz="0 0 0" rpy="0 0 0"/>
      <geometry>
        <mesh filename="handle~handle3_convex_piece_63.obj" scale="1.0000E+00 1.0000E+00 1.0000E+00"/>
      </geometry>
      <material name=""/>
    </visual>
    <collision>
      <origin xyz="0 0 0" rpy="0 0 0"/>
      <geometry>
        <mesh filename="handle~handle3_convex_piece_63.obj" scale="1.0000E+00 1.0000E+00 1.0000E+00"/>
      </geometry>
    </collision>
  </link>
  <joint name="link_handle~handle3_convex_piece_63_joint" type="fixed">
    <origin xyz="0 0 0" rpy="0 0 0"/>
    <parent link="link_handle~handle3_convex_piece_62"/>
    <child link="link_handle~handle3_convex_piece_63"/>
  </joint>
</robot>
